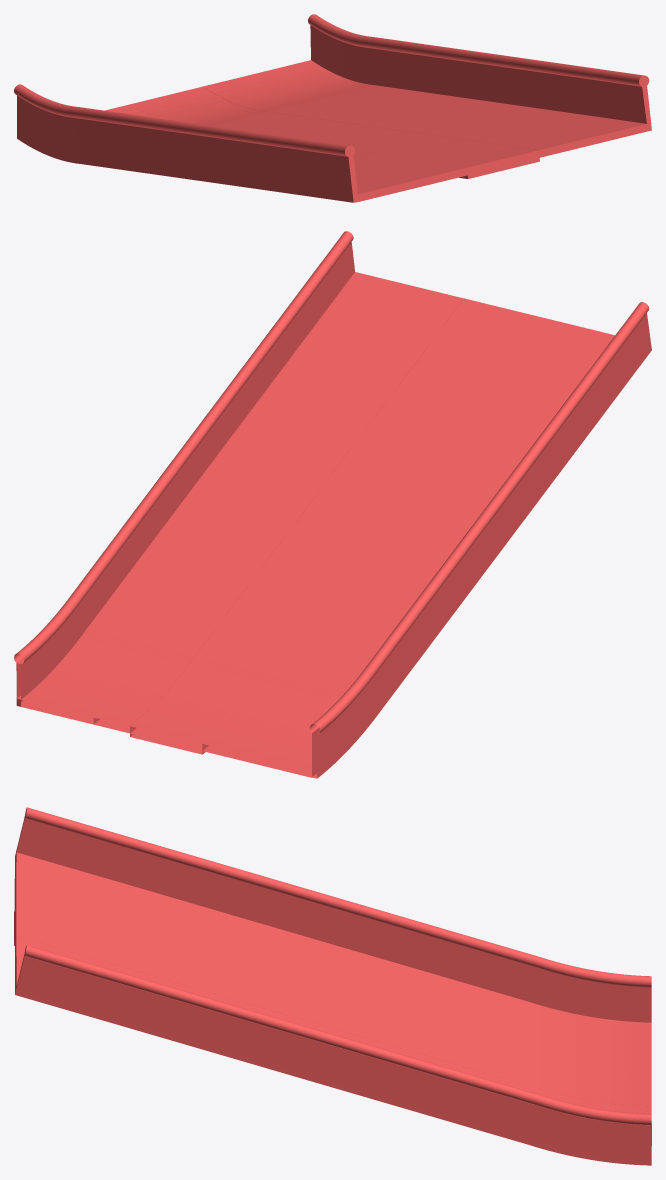
The model's file is trackpiece-ramp-connected-bottom.glb.
The picture shows the model from 3 angles, top to bottom: view 1: azimuth 30°, elevation 25°; view 2: azimuth 150°, elevation 25°; view 3: azimuth 270°, elevation 25°; orthographic projection. The views are drawn at different scales.
Visible parts, largest first — view 1: Track piece/short; view 2: Track piece/short; view 3: Track piece/short.
Part boxes in pixels (x1,y1,x2,y2): Track piece/short: [14, 14, 651, 202]; Track piece/short: [14, 231, 651, 778]; Track piece/short: [14, 807, 651, 1165].
Size of the model in its own units: 8.39 by 6.19 by 15.93.
